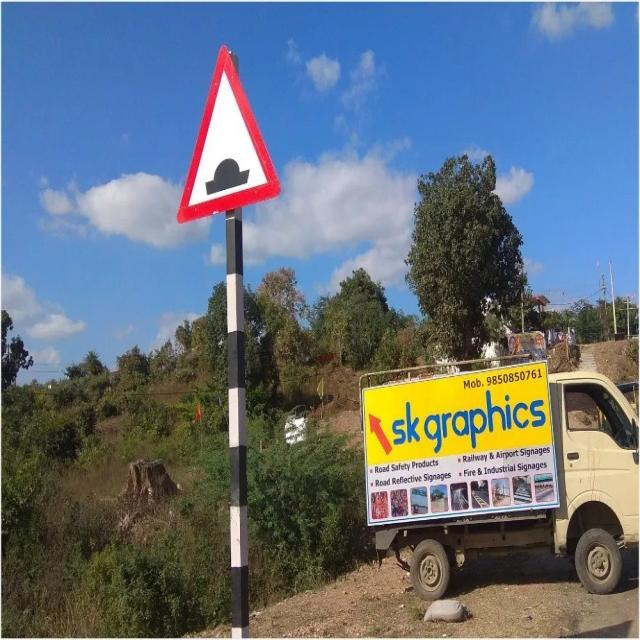Bump: (174, 42, 275, 220)
